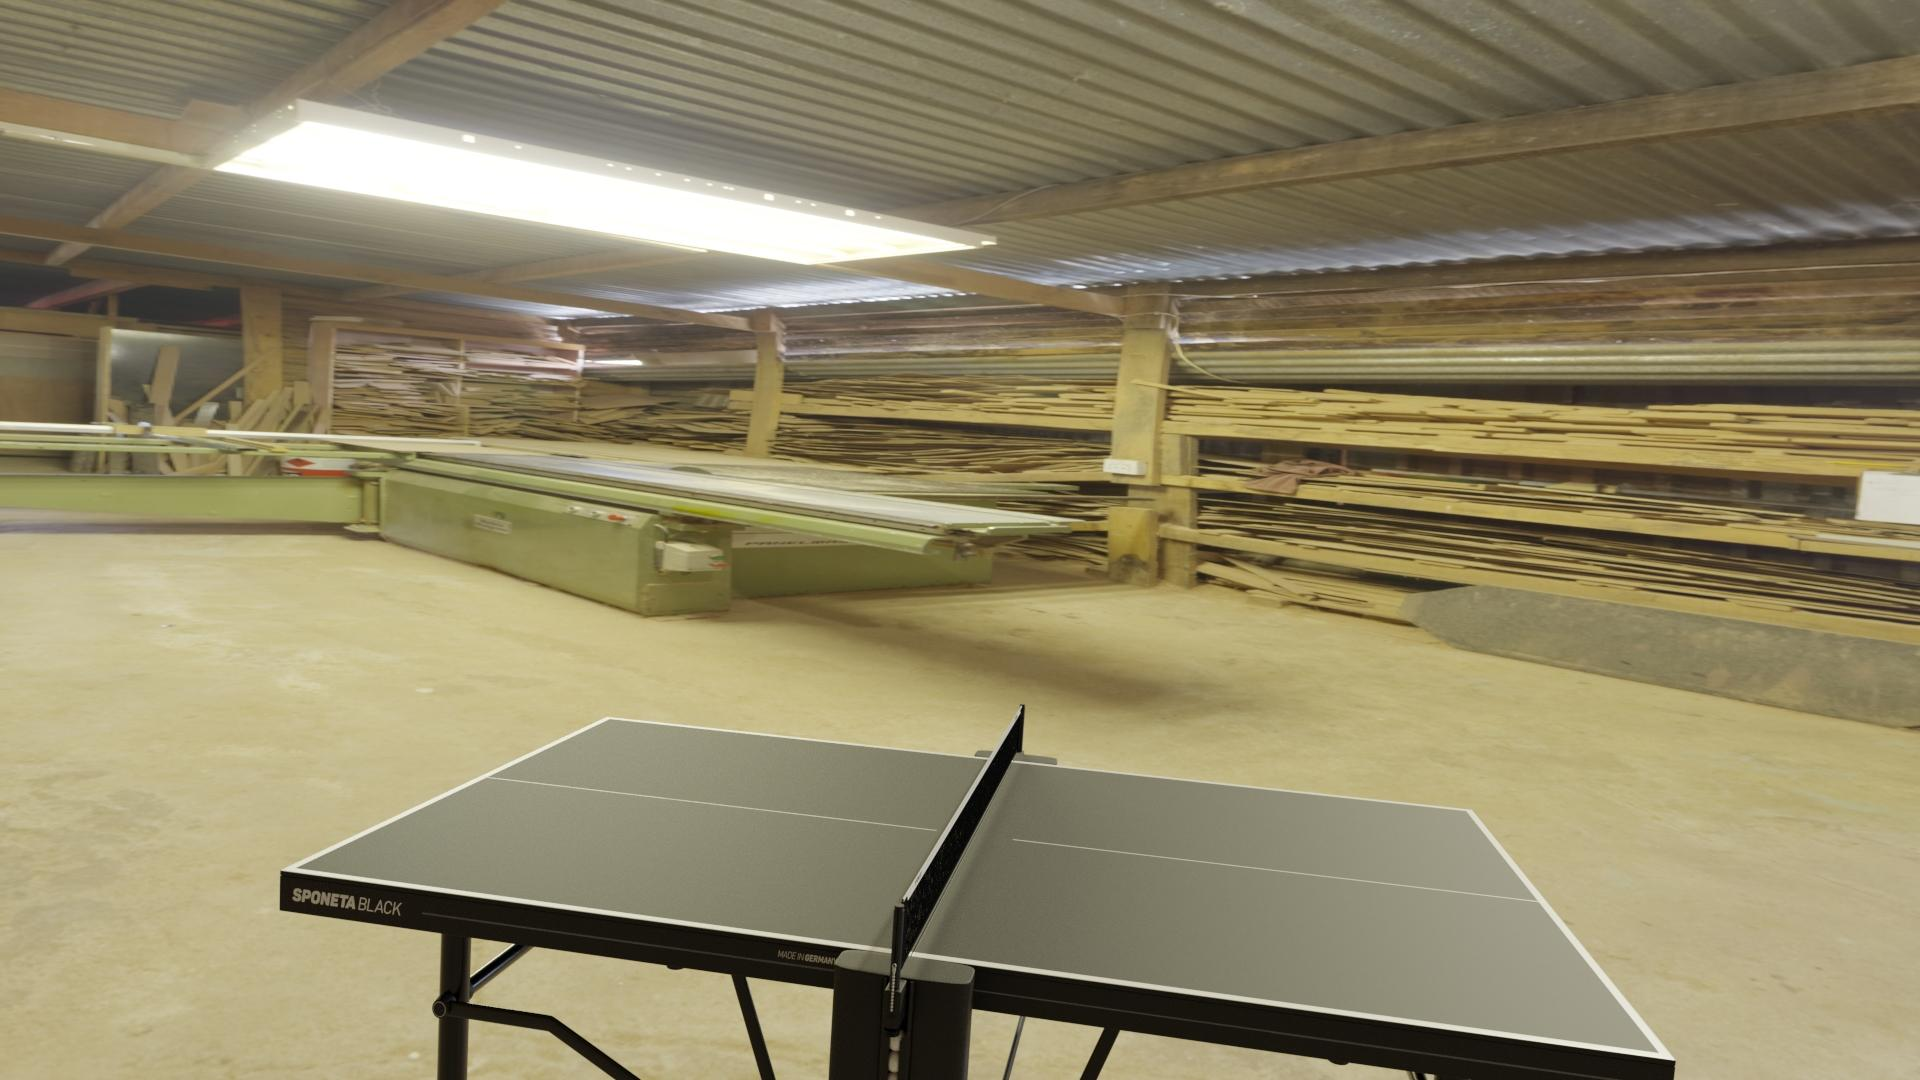table: (295, 719, 1660, 1054)
